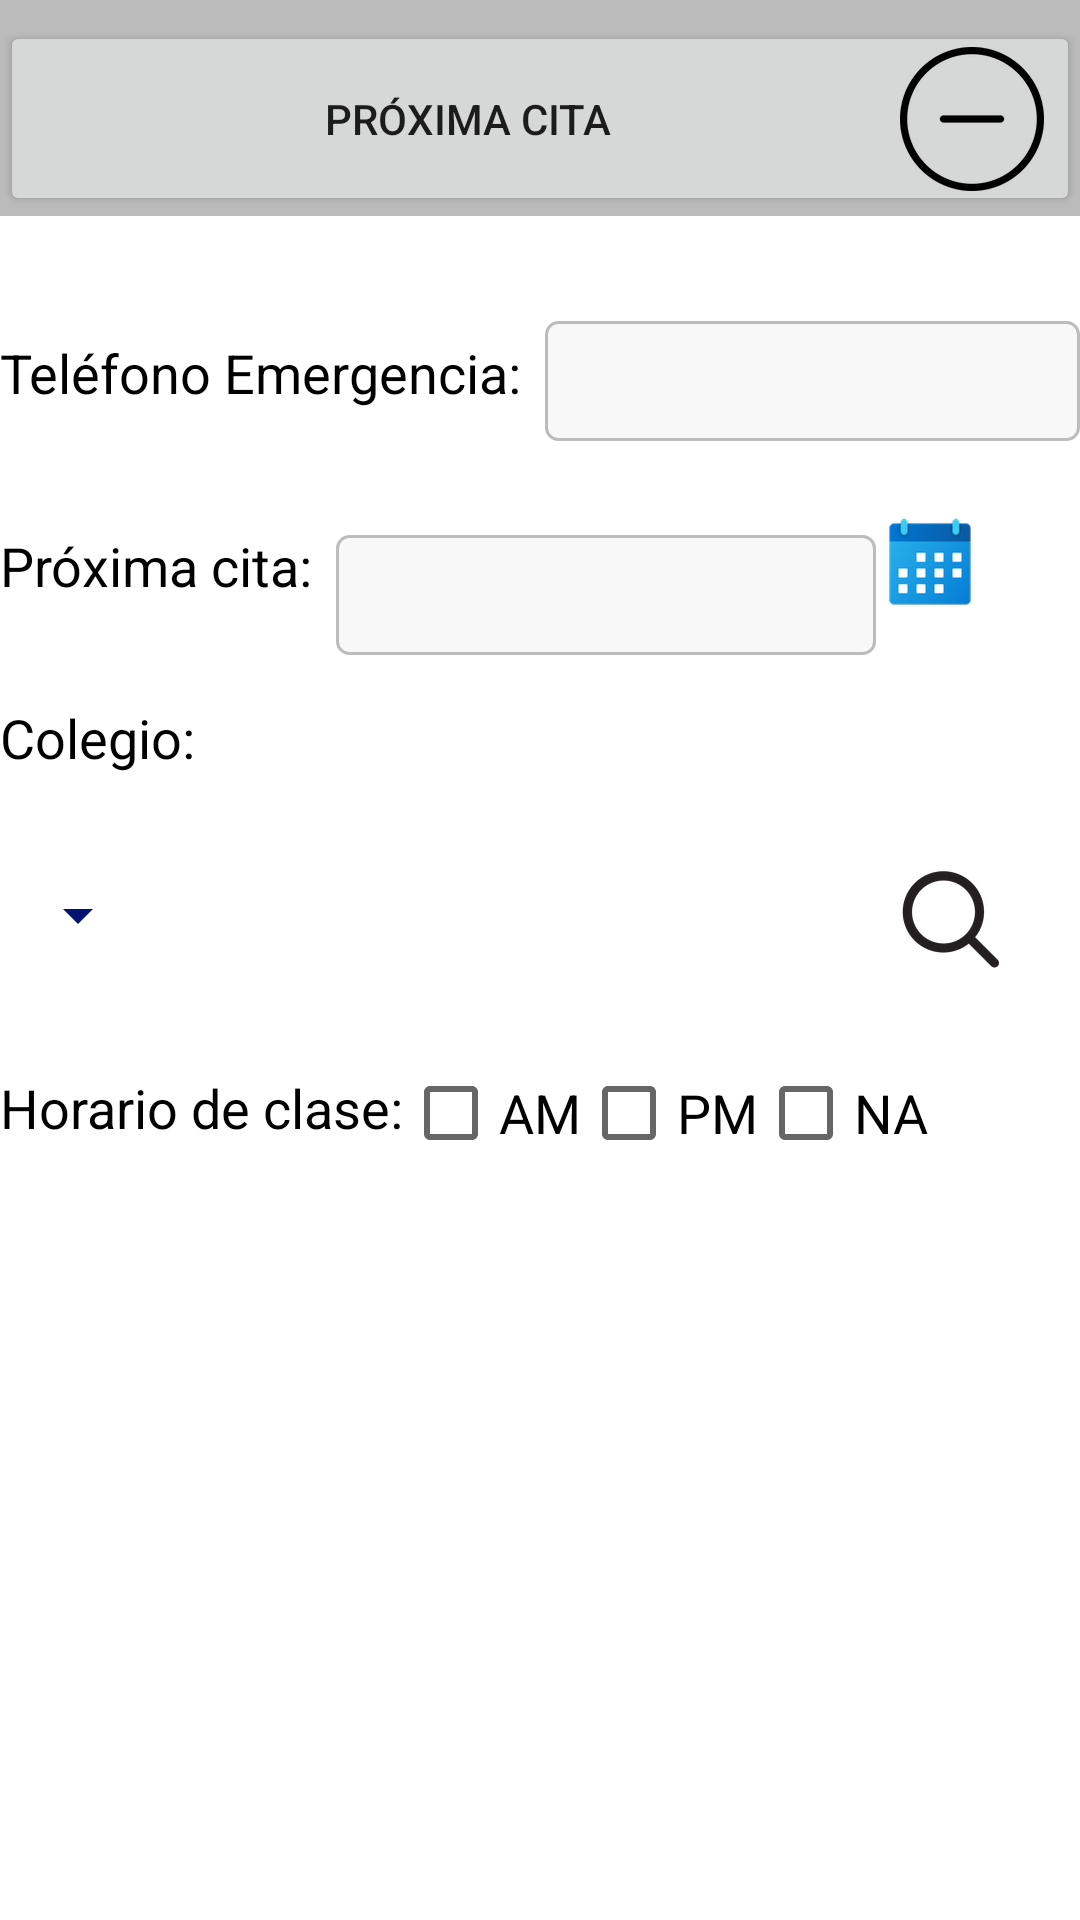

Screen size 1080x1920. Icon name, then its box in pixels as (x1, y1, x2, y2):
calendar: (889, 519, 971, 605)
search: (902, 871, 999, 968)
